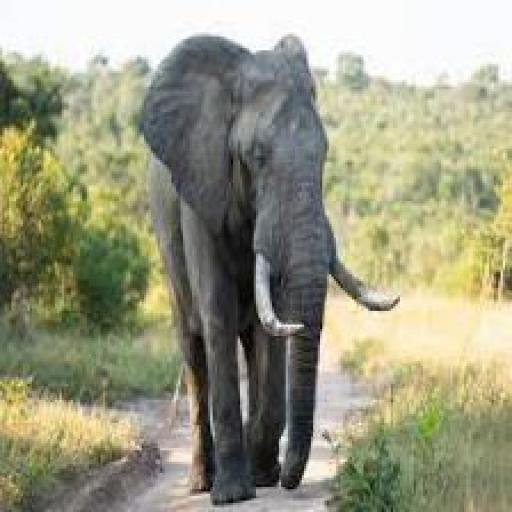Elephant: (98, 20, 418, 511)
